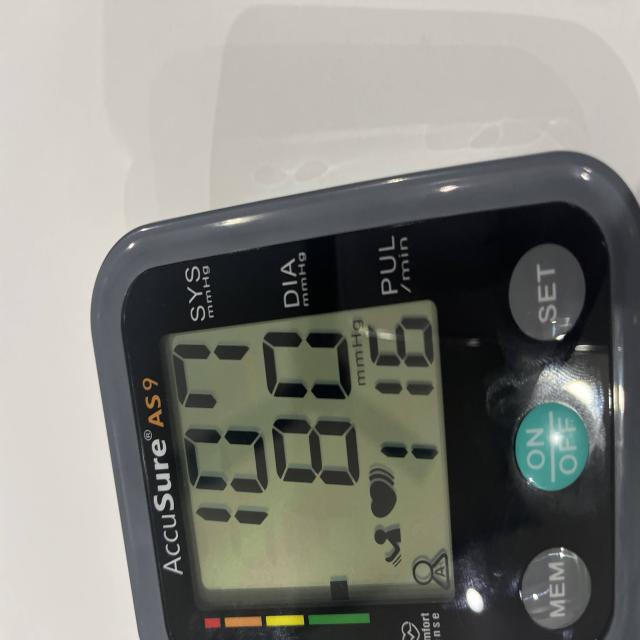bp: (91, 8, 640, 640)
